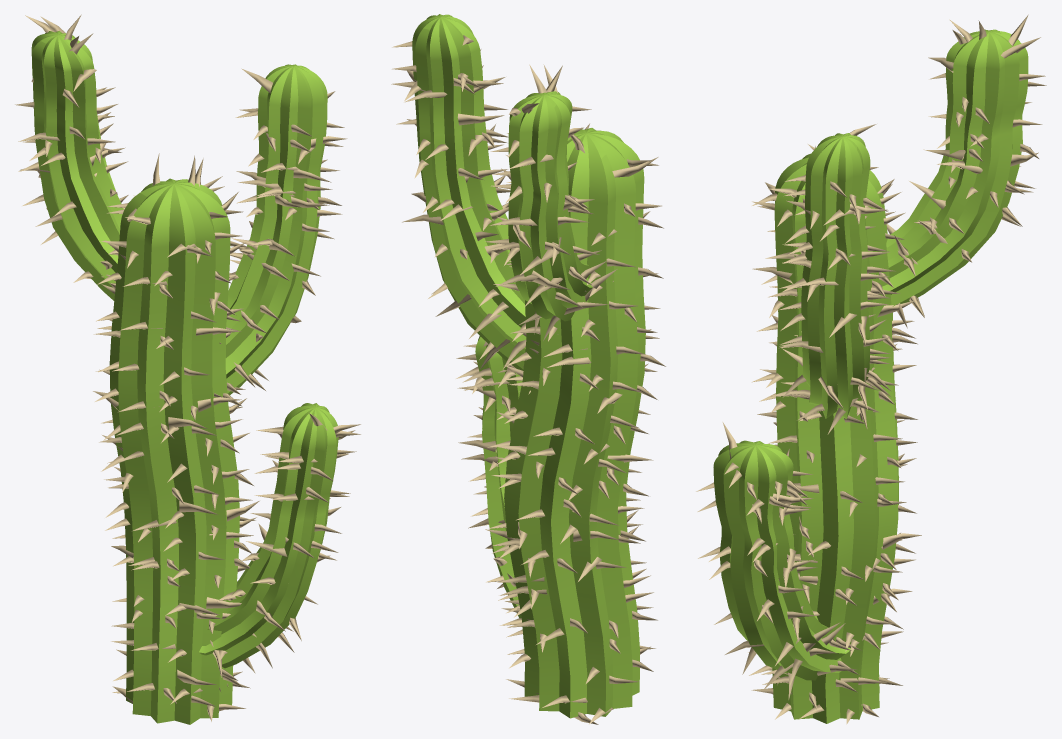
File: LCactus1.fbx
3 renders of one model, left to right at view 1: azimuth 30°, elevation 25°; view 2: azimuth 150°, elevation 25°; view 3: azimuth 270°, elevation 25°, orthographic. The views are drawn at different scales.
Visible parts, largest first — view 1: LCactus1; view 2: LCactus1; view 3: LCactus1.
Boxes of the visible parts, x1,y1,x2,y2 form: LCactus1: [15, 14, 360, 724]; LCactus1: [391, 14, 665, 724]; LCactus1: [696, 14, 1046, 724].
Bounding box in the file's own units: 230 × 568 × 270.
